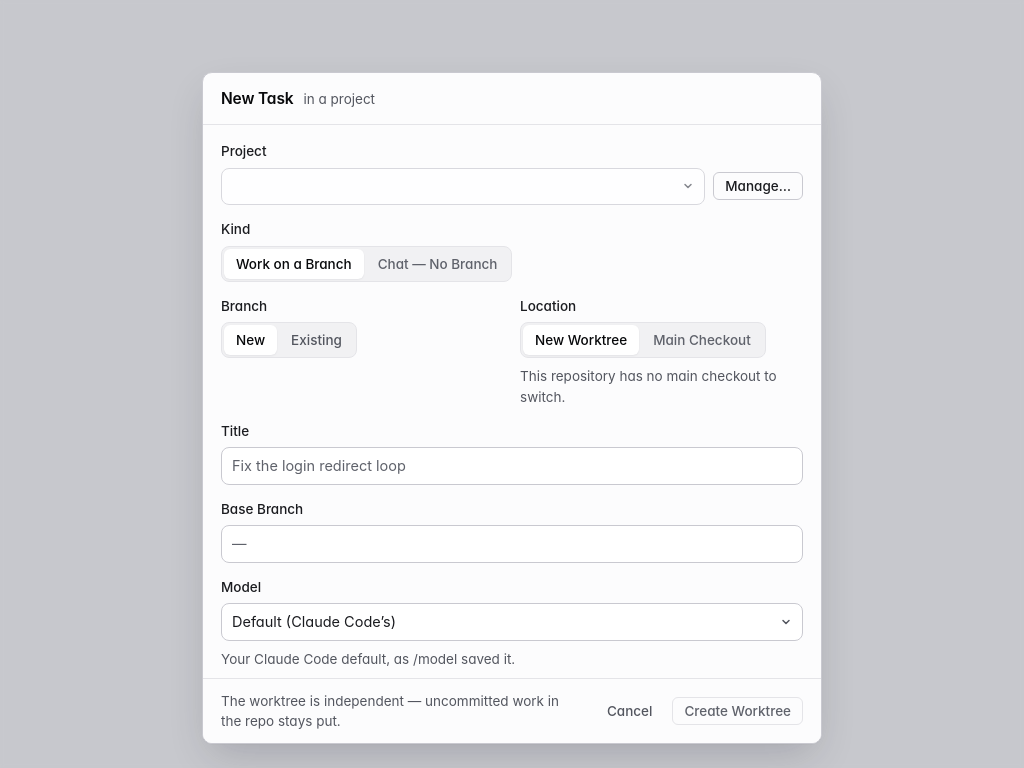
Test: NewTaskDialog partial create › names what was left behind when the undo could not finish
Type "Fix login" into the field labelled "Title" at (512, 466), box [221,447,803,485]
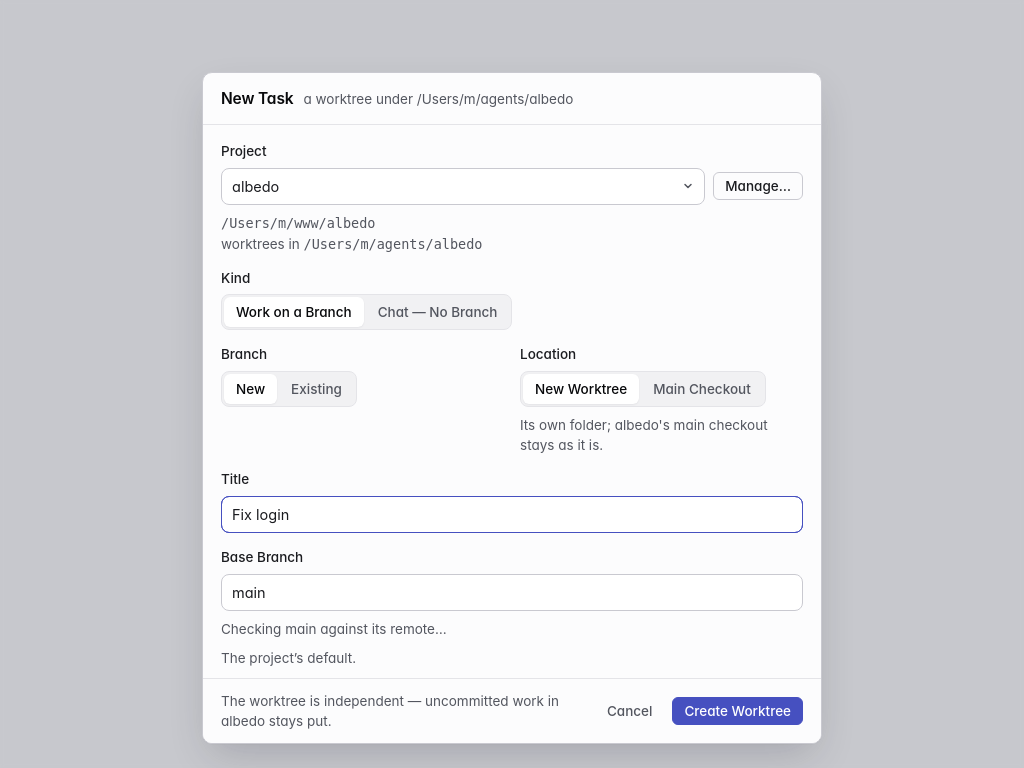
Result: the button "Create Worktree" is enabled
Click the button "Create Worktree" at (738, 711), box [672,697,803,725]
(page scrolled)
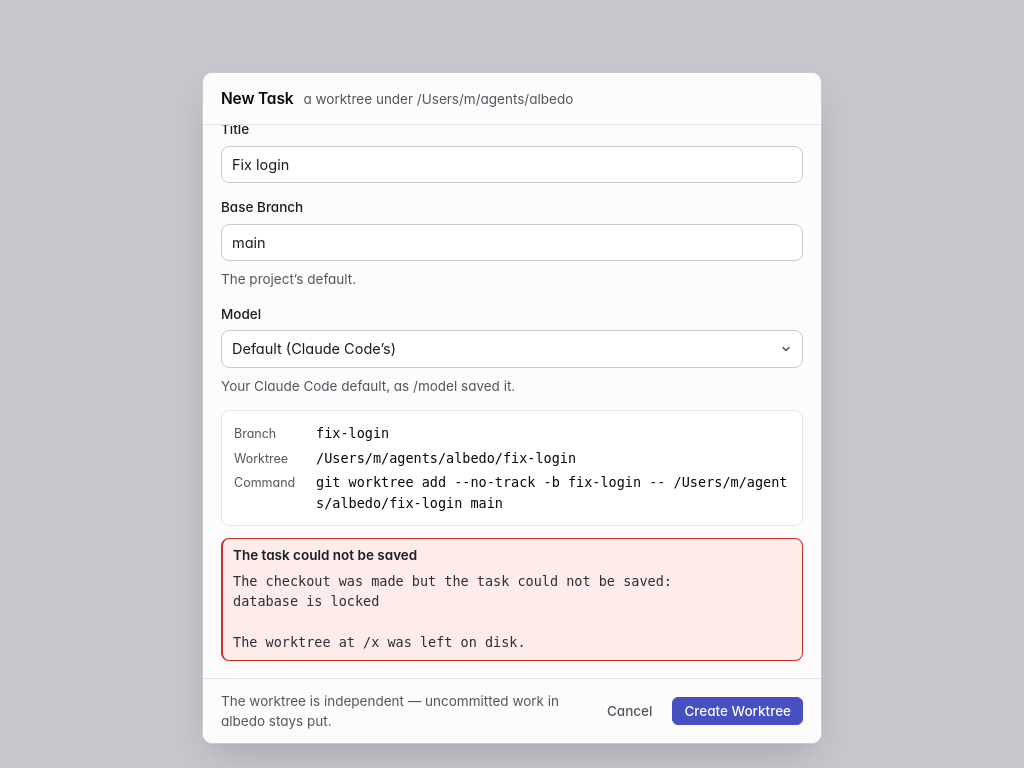
Result: the text "was left on disk" is shown at [233,573,672,650]
